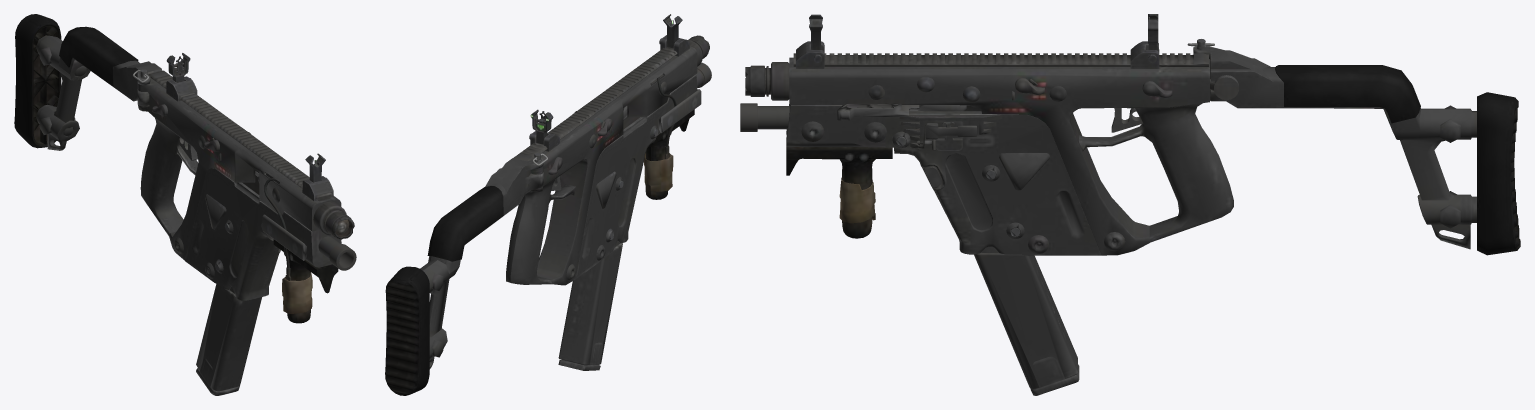
Rendered from silah_vector.glb.
3 renders of one model, left to right at view 1: azimuth 30°, elevation 25°; view 2: azimuth 150°, elevation 25°; view 3: azimuth 270°, elevation 25°, orthographic. The views are drawn at different scales.
Parts seen in each view (by area): view 1: defaultMaterial (×18); view 2: defaultMaterial (×17); view 3: defaultMaterial (×15).
Part boxes in pixels (x1,y1,x2,y2): defaultMaterial (×18): (14, 14, 356, 395); defaultMaterial (×17): (385, 14, 711, 395); defaultMaterial (×15): (740, 41, 1520, 395).
Bounding box in the file's own units: 2.68 × 15.11 × 28.71.
Materials: 1 (1 with a texture image).
